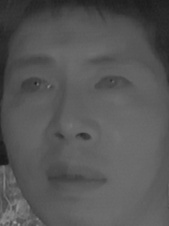eye: (91, 71, 135, 97), (17, 74, 56, 99)
mouth: (43, 157, 111, 197)
